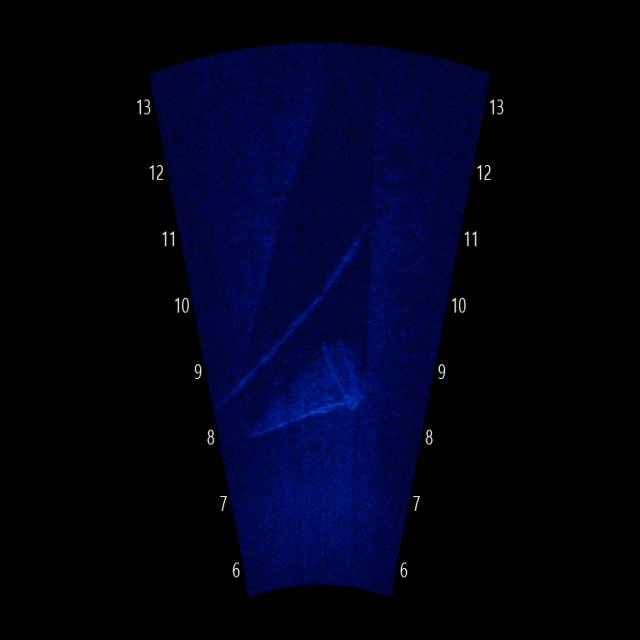triangle: (242, 328, 376, 456)
